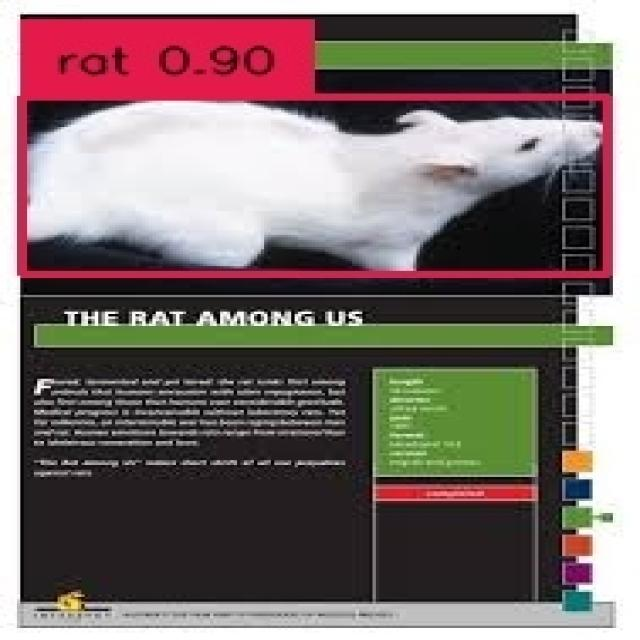rat: (17, 93, 603, 271)
